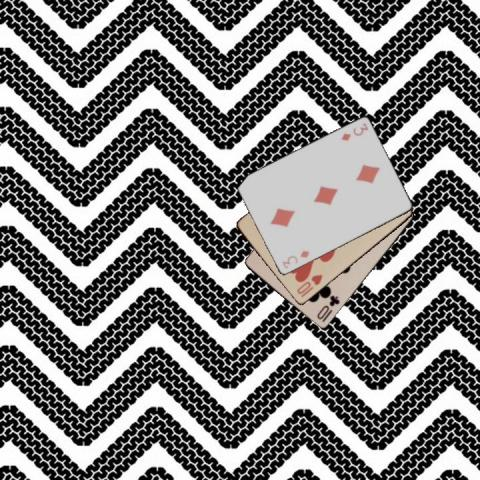10c: (314, 293, 341, 324)
10h: (294, 272, 325, 299)
3d: (280, 247, 312, 270), (338, 121, 369, 142)
